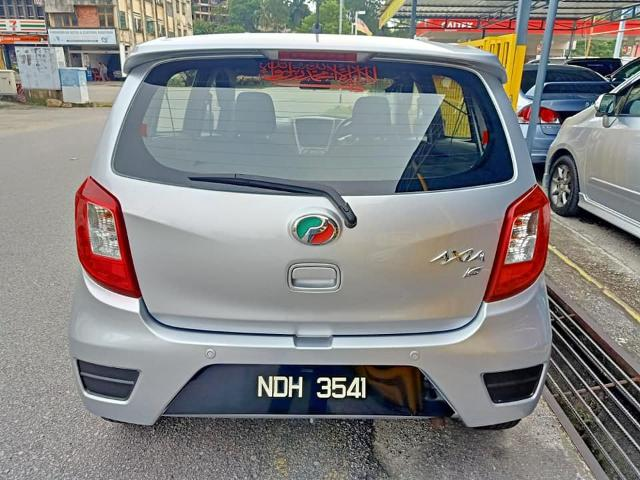License_Plate: (217, 366, 412, 415)
car: (64, 30, 550, 431)
